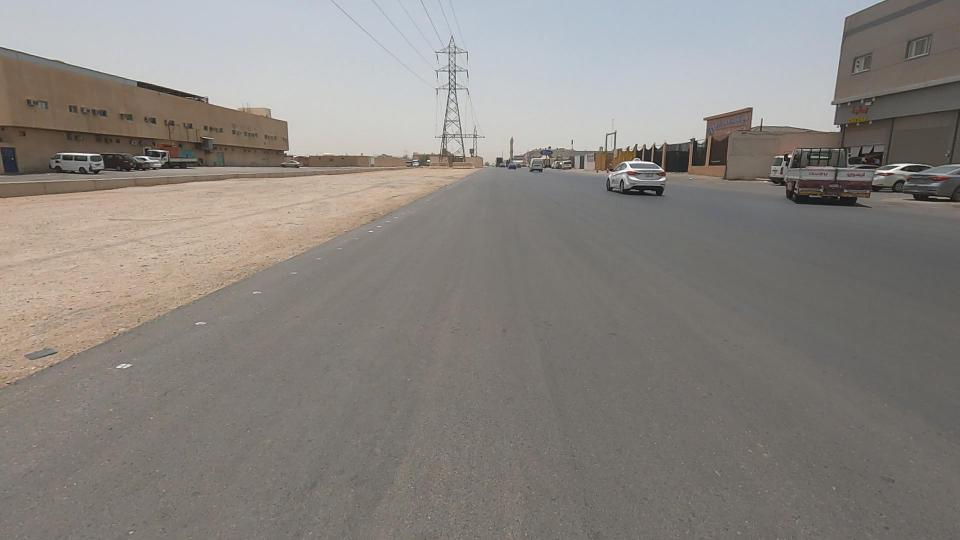CONSTRUCTION_ROAD: (0, 142, 439, 320), (239, 139, 476, 243)
